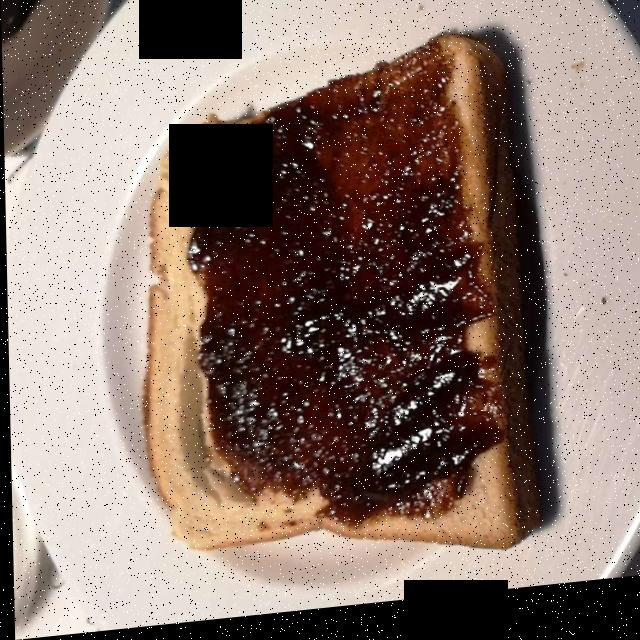bread-toast: (143, 48, 534, 547)
jam: (193, 54, 504, 515)
